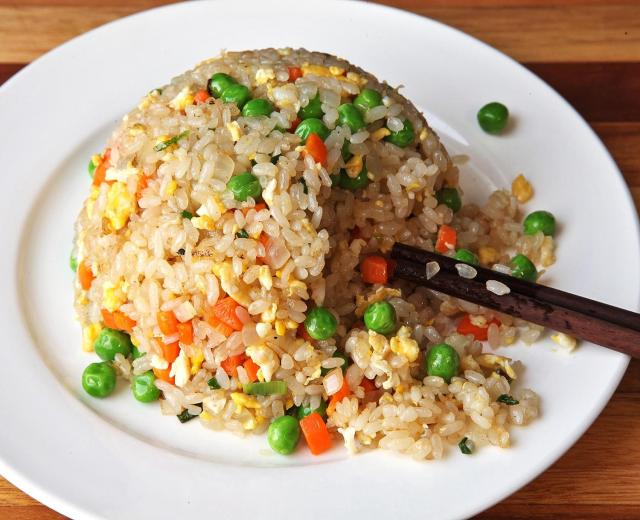fried rice: (76, 49, 552, 459)
